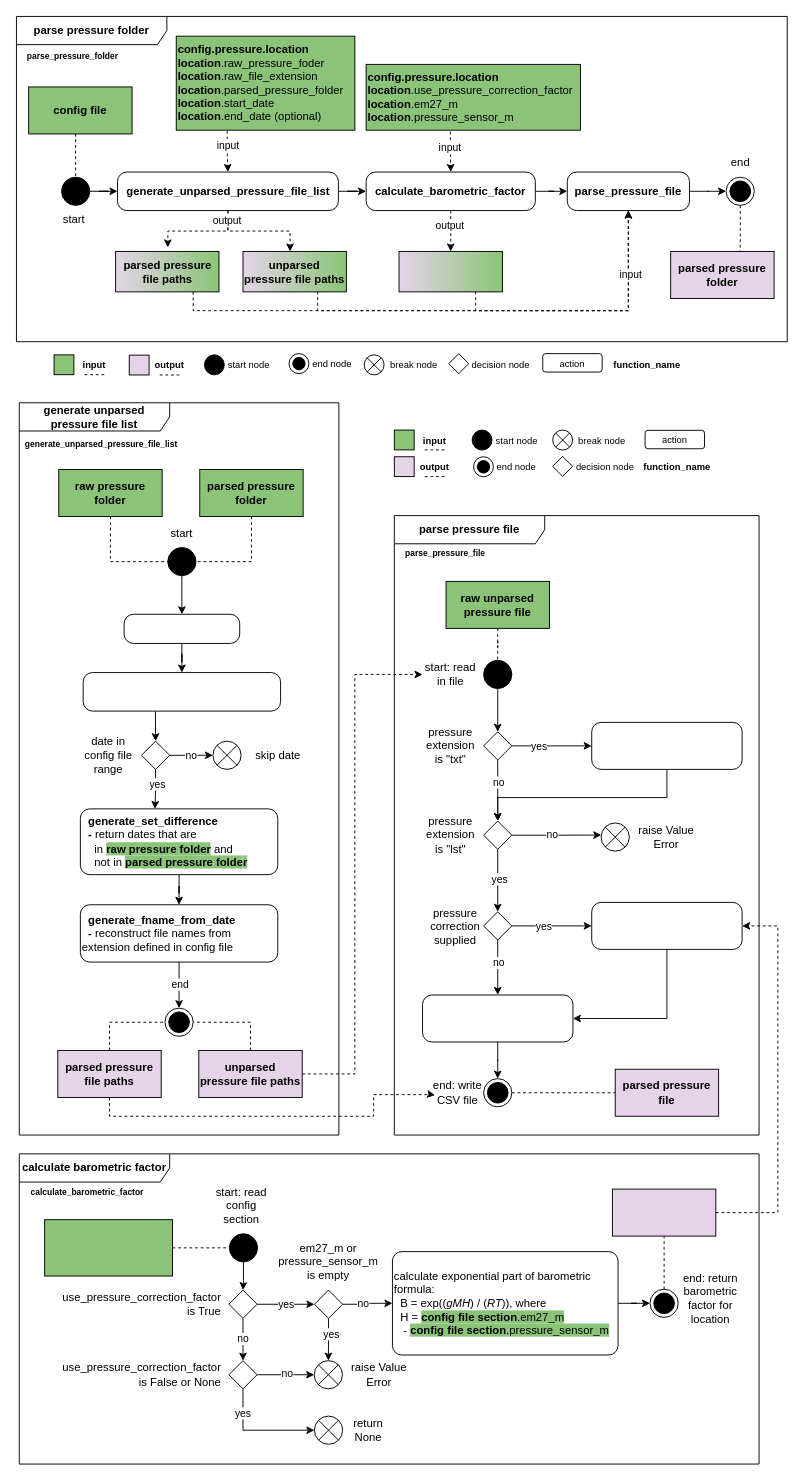
The diagram is 804 pixels wide and 1481 high, and some of its shapes have lost their labels. Each missing label, with the centre of its shape:
apply_pressure_correction: [666,925]
barometric factor: [663,1212]
config file section: config .pressure.location: [108,1247]
extract_date_from_fname - parse date based on file extension: [181,691]
format pressure data set: [497,1018]
get_file_extension: [181,628]
preproces_case_log_file - replace '=' with ' ': [666,745]
pressure correction factor: [450,271]
